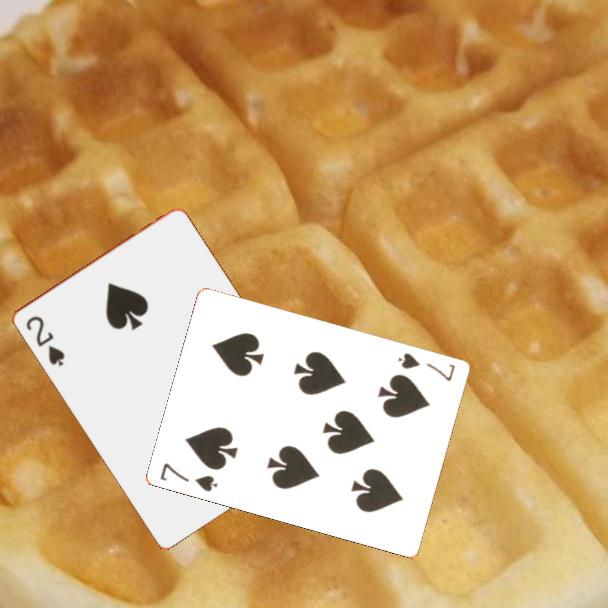s02: (22, 312, 67, 370)
s07: (157, 459, 221, 494), (395, 349, 458, 384)
